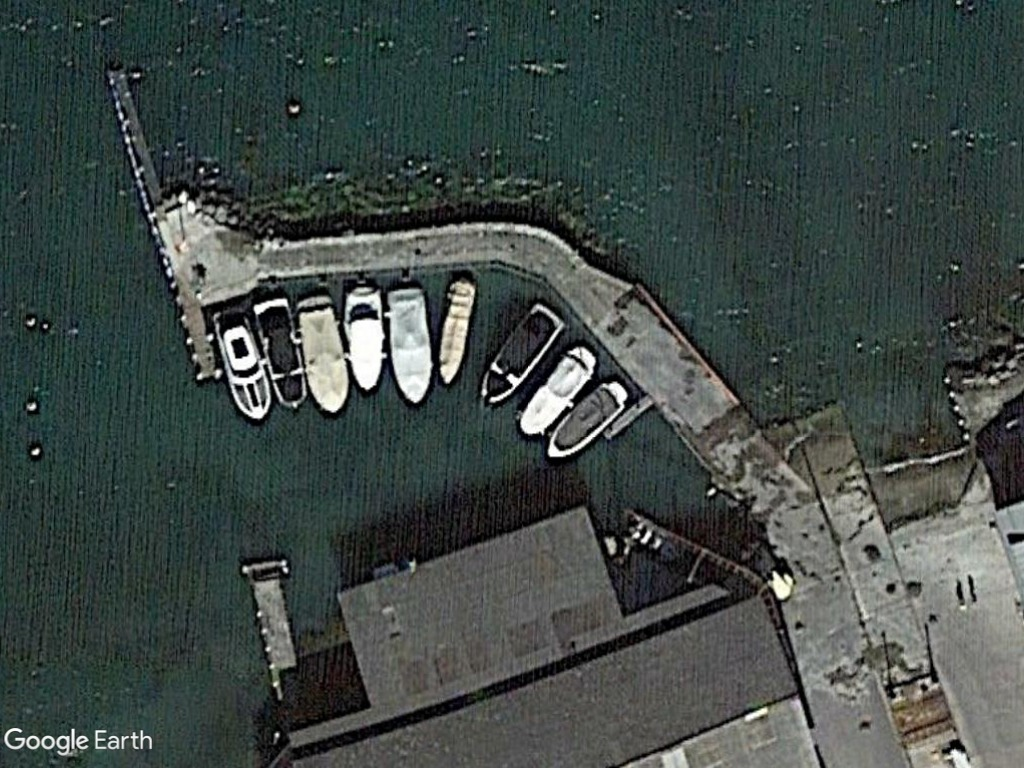boat: (475, 302, 567, 407), (204, 305, 274, 426), (515, 343, 601, 439), (542, 377, 631, 464), (289, 291, 349, 417), (248, 297, 307, 415), (384, 282, 436, 408), (339, 278, 385, 394), (433, 272, 478, 390)
